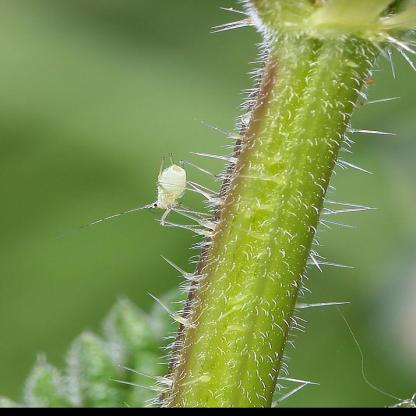aphid: (128, 152, 224, 227)
